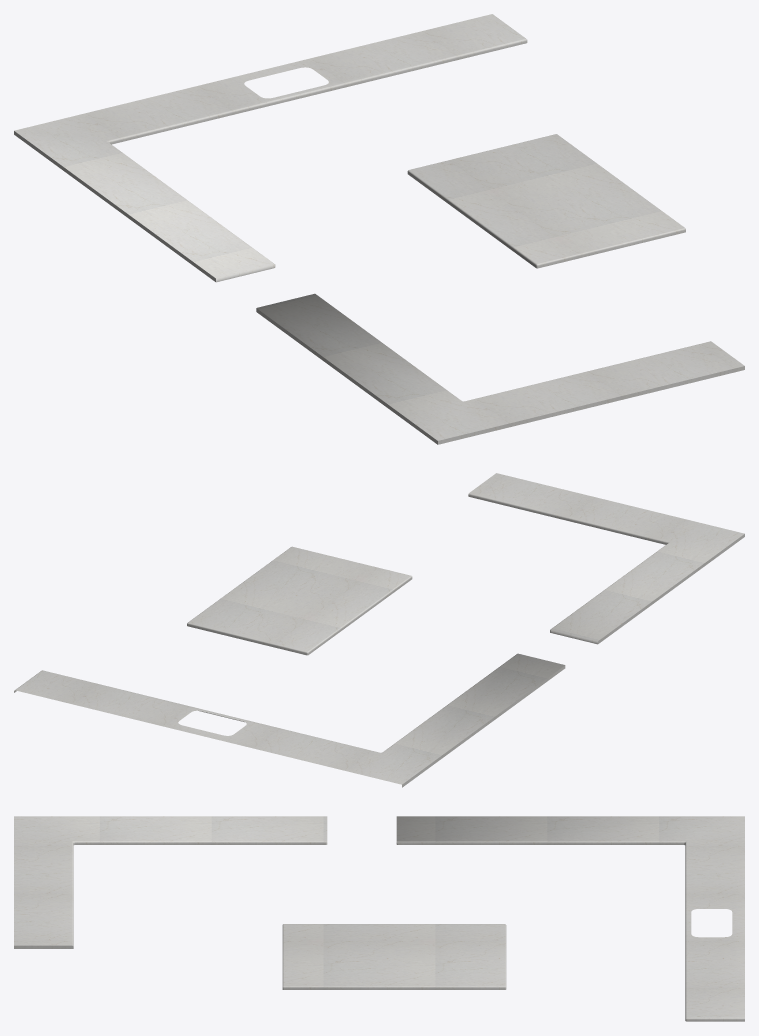
Rendered from Countertops_QuartzCalacattaKarmelo.glb.
3 views of the same model, one above another, from view 1: azimuth 30°, elevation 25°; view 2: azimuth 150°, elevation 25°; view 3: azimuth 270°, elevation 25° (orthographic). The views are drawn at different scales.
Parts seen in each view (by area): view 1: Countertops_Quartz Calacatta Karmelo; view 2: Countertops_Quartz Calacatta Karmelo; view 3: Countertops_Quartz Calacatta Karmelo.
Boxes of the visible parts, bbox=[...] form: Countertops_Quartz Calacatta Karmelo: bbox=[14, 14, 744, 444]; Countertops_Quartz Calacatta Karmelo: bbox=[14, 473, 744, 787]; Countertops_Quartz Calacatta Karmelo: bbox=[14, 816, 744, 1021].
Size of the model in its own units: 6.4 by 0.05 by 9.8.
Materials: 1 (1 with a texture image).
